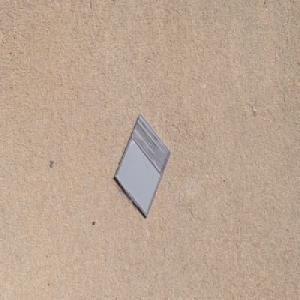PlasticPart: (114, 113, 172, 219)
